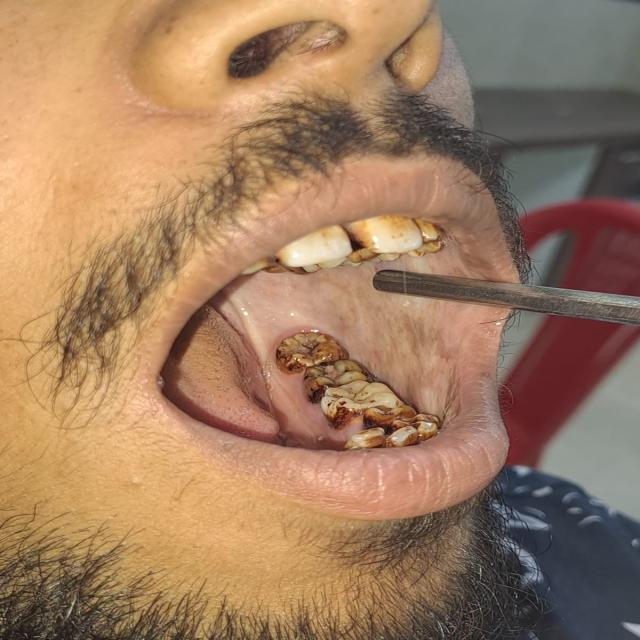leukoplakia-like-detection: (217, 279, 475, 414)
processing_area: (159, 280, 491, 455)
